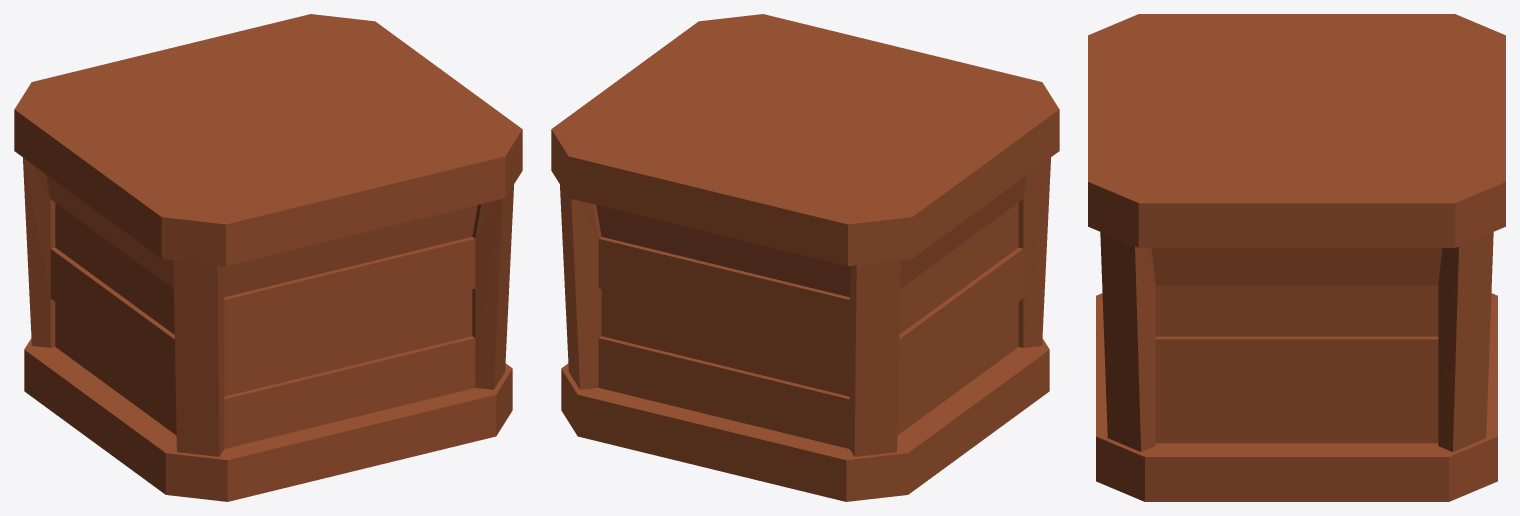
The model's file is Prop_Building_Savage_Tribal_Timber_Tower_Middle_01.FBX.
3 renders of one model, left to right at view 1: azimuth 30°, elevation 25°; view 2: azimuth 150°, elevation 25°; view 3: azimuth 270°, elevation 25°, orthographic. The views are drawn at different scales.
Parts seen in each view (by area): view 1: Prop_Building_Savage_Tribal_Timber_Tower_Middle_01; view 2: Prop_Building_Savage_Tribal_Timber_Tower_Middle_01; view 3: Prop_Building_Savage_Tribal_Timber_Tower_Middle_01.
Part boxes in pixels (x1,y1,x2,y2): Prop_Building_Savage_Tribal_Timber_Tower_Middle_01: [14, 14, 522, 501]; Prop_Building_Savage_Tribal_Timber_Tower_Middle_01: [551, 14, 1059, 501]; Prop_Building_Savage_Tribal_Timber_Tower_Middle_01: [1088, 14, 1505, 501].
Size of the model in its own units: 4117 by 3070 by 3844.
